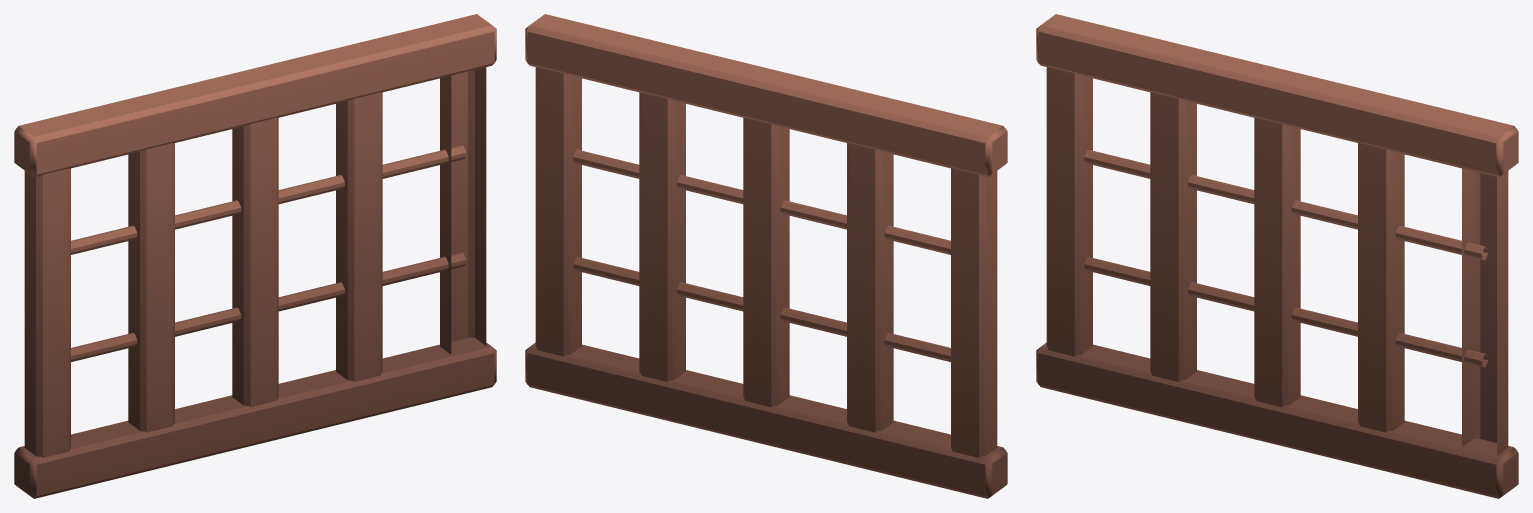
Rendered from SM_Wood_Window_02.fbx.
3 renders of one model, left to right at view 1: azimuth 30°, elevation 25°; view 2: azimuth 150°, elevation 25°; view 3: azimuth 330°, elevation 25°, orthographic.
Visible parts, largest first — view 1: SM_Wood_Window_02; view 2: SM_Wood_Window_02; view 3: SM_Wood_Window_02.
Part boxes in pixels (x1,y1,x2,y2): SM_Wood_Window_02: (14, 14, 496, 498); SM_Wood_Window_02: (525, 14, 1007, 498); SM_Wood_Window_02: (1036, 14, 1518, 498).
Size of the model in its own units: 0.619 by 0.4588 by 0.0465.
